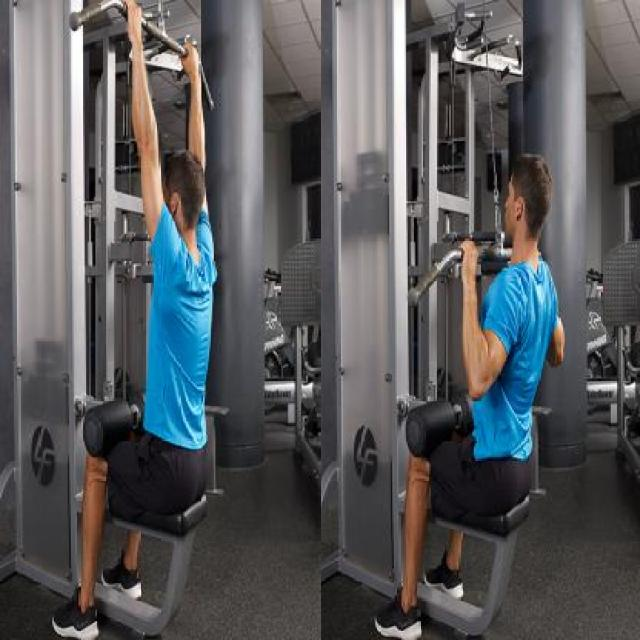Lat Pull Down: (308, 0, 572, 640), (12, 0, 226, 640)
